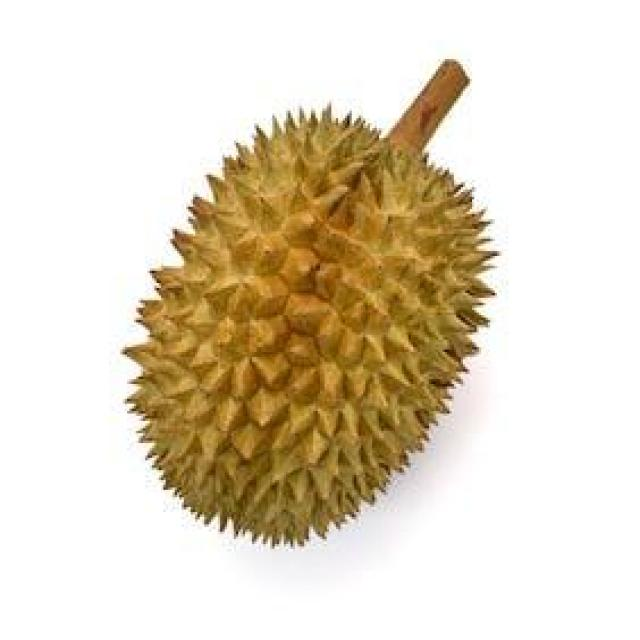mature: (126, 108, 494, 543)
